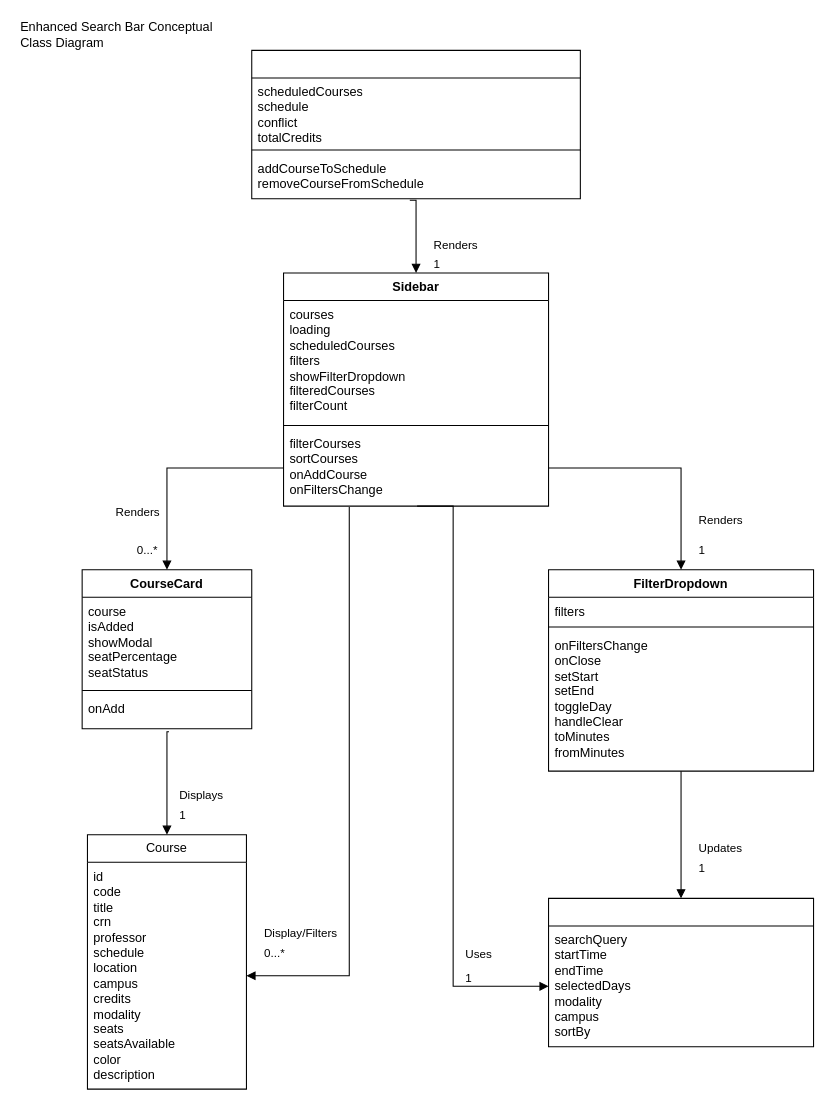
The diagram is 832 pixels wide and 1110 high, and some of its shapes have lost their labels. Here are the shapes that lost their labels. From the top down, the box of each, then its label:
(251, 49, 580, 199): App
(547, 897, 814, 1047): FilterState
